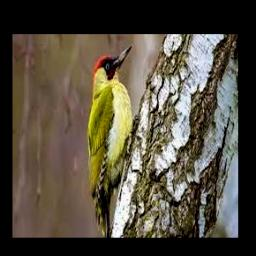Woodpecker: (87, 45, 140, 238)
